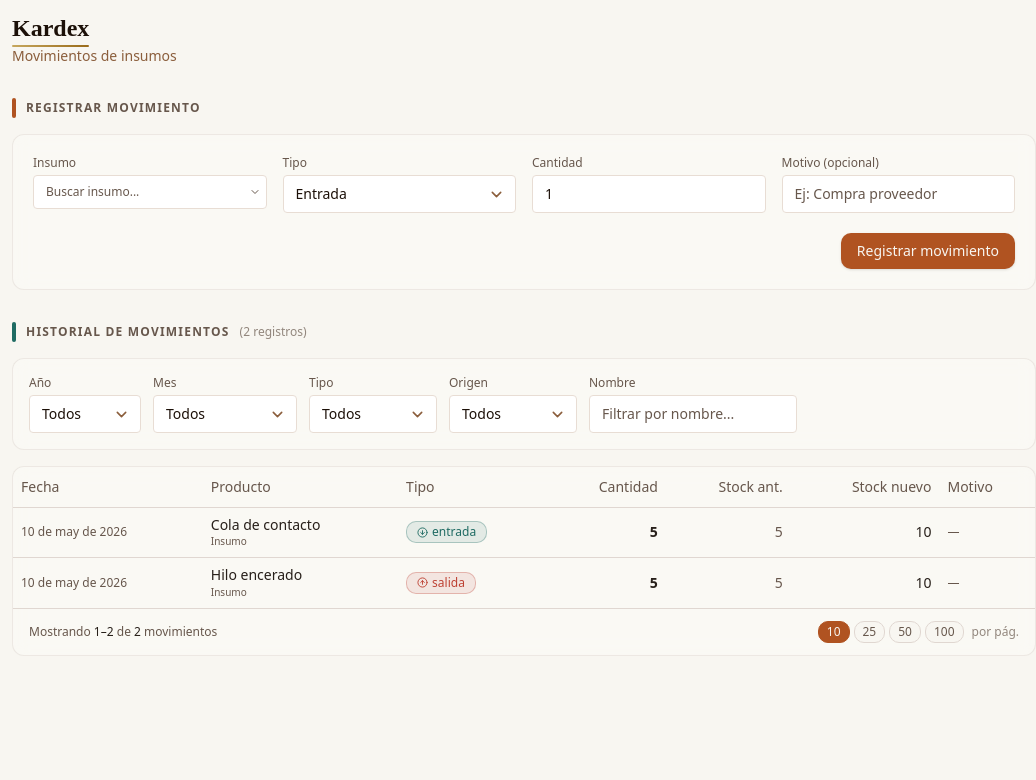
KardexView — filtros del historial › filtra por tipo de movimiento
This screenshot has width=1036, height=780.
Expected: the text "Cola de contacto" is shown, 211,514 -> 320,534
Select "Salida" in the 4th dropdown: (373, 414) 309,395 -> 437,433
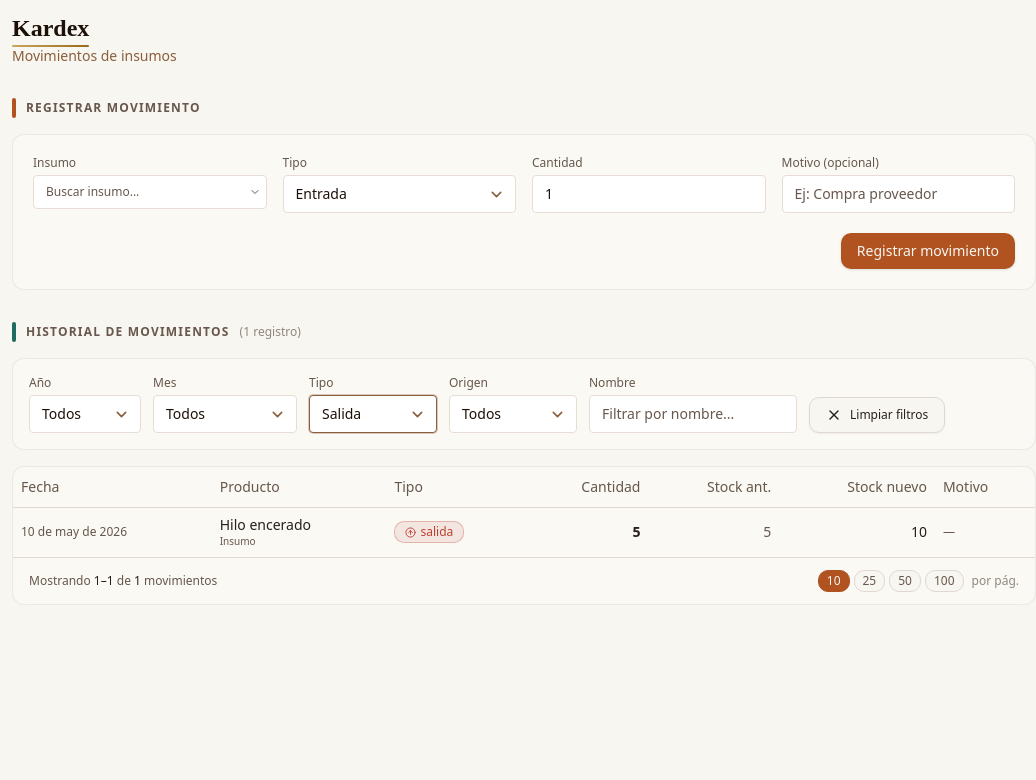
Expected: the text "Hilo encerado" is shown, 220,514 -> 311,534
Result: the text "Cola de contacto" is gone
